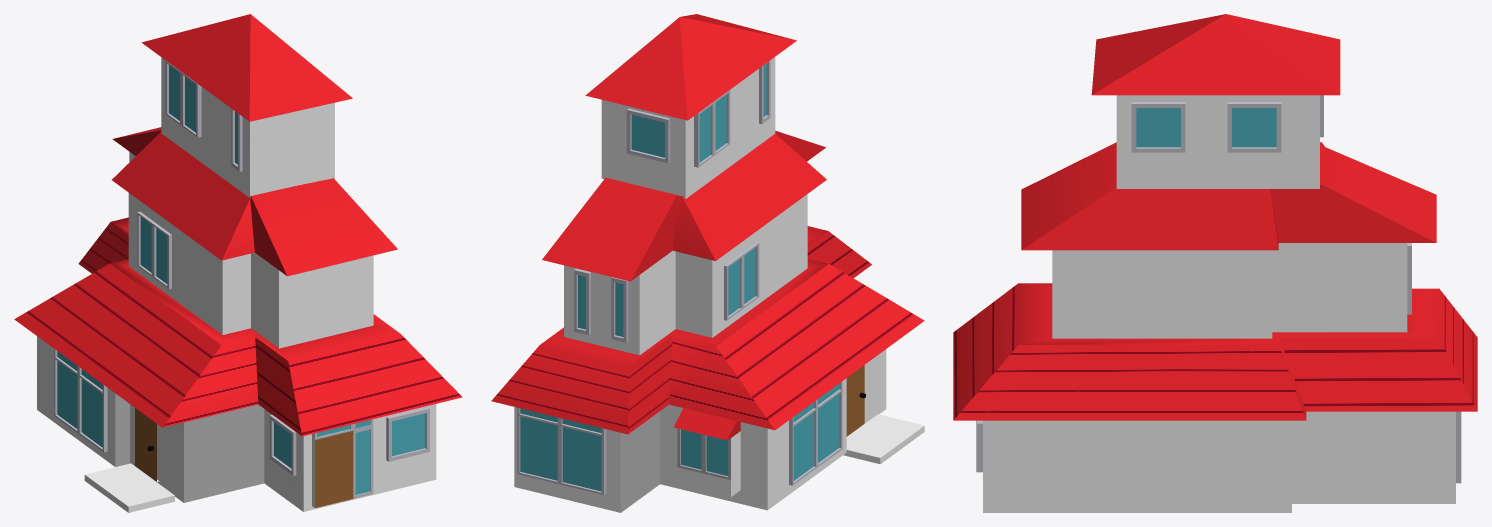
The model's file is Big_House_R.fbx.
3 renders of one model, left to right at view 1: azimuth 30°, elevation 25°; view 2: azimuth 150°, elevation 25°; view 3: azimuth 270°, elevation 25°, orthographic. The views are drawn at different scales.
Parts seen in each view (by area): view 1: House_Big_R_LOD0; view 2: House_Big_R_LOD0; view 3: House_Big_R_LOD0.
Part boxes in pixels (left/top/right/bottom): House_Big_R_LOD0: left=14, top=14, right=462, bottom=512; House_Big_R_LOD0: left=491, top=14, right=924, bottom=512; House_Big_R_LOD0: left=953, top=14, right=1477, bottom=512.
Size of what is drawn, in the model's own units: 5.42 by 7.78 by 8.
